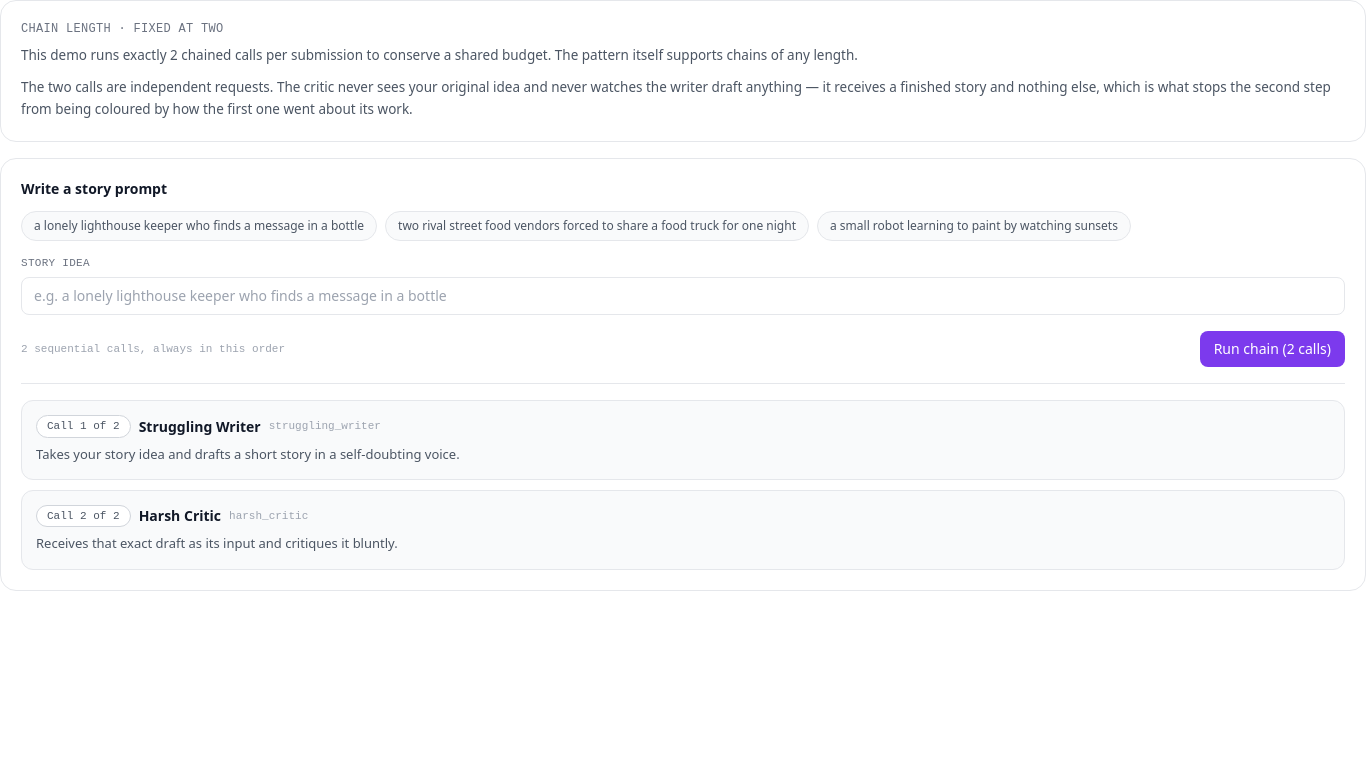
Test case: the chained-calls app before any submission › does not submit an empty story idea
expect the text "Takes your story idea and drafts a short story in a self-doubting voice." is shown: met, box [36,445,460,463]
Click the button "Run chain (2 calls)" at point(1272, 349), box [1200,331,1345,367]
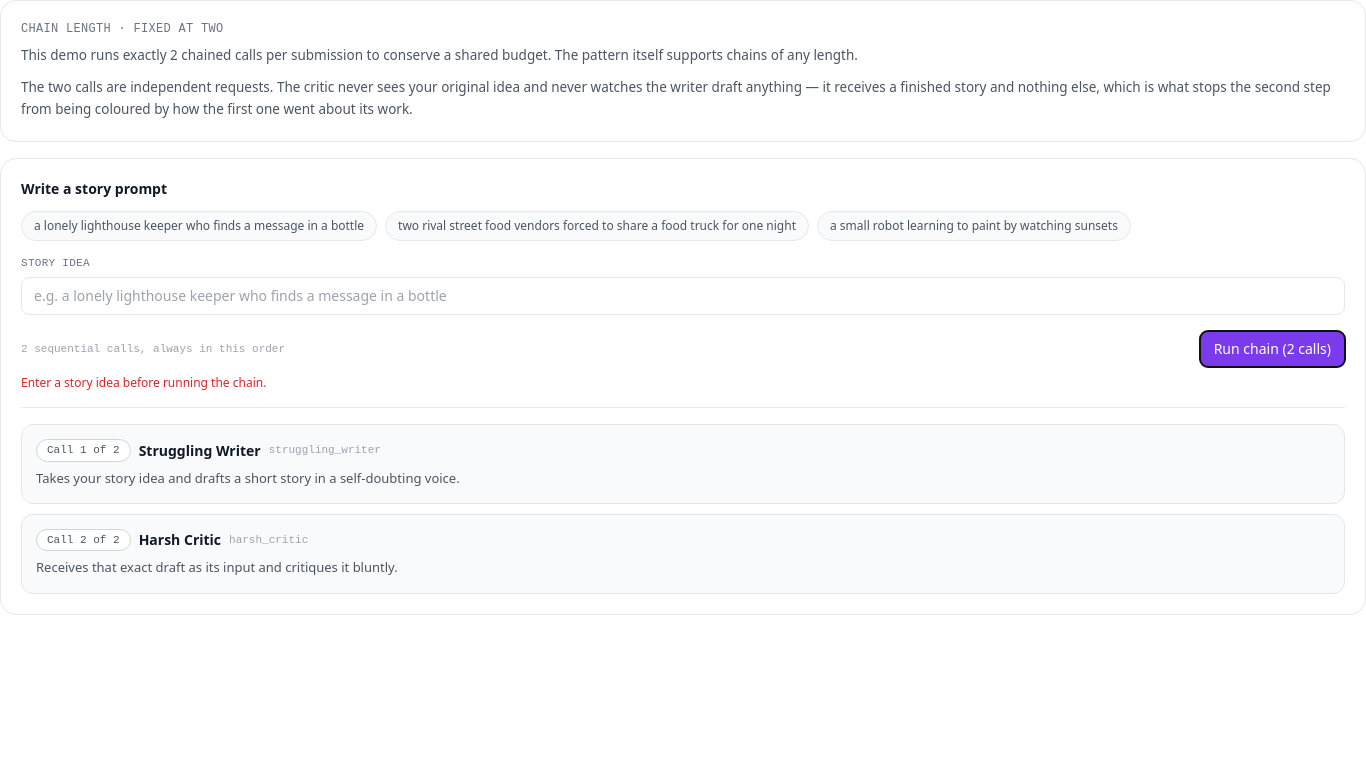
expect the message shows "Enter a story idea": met, box [21,374,266,391]
